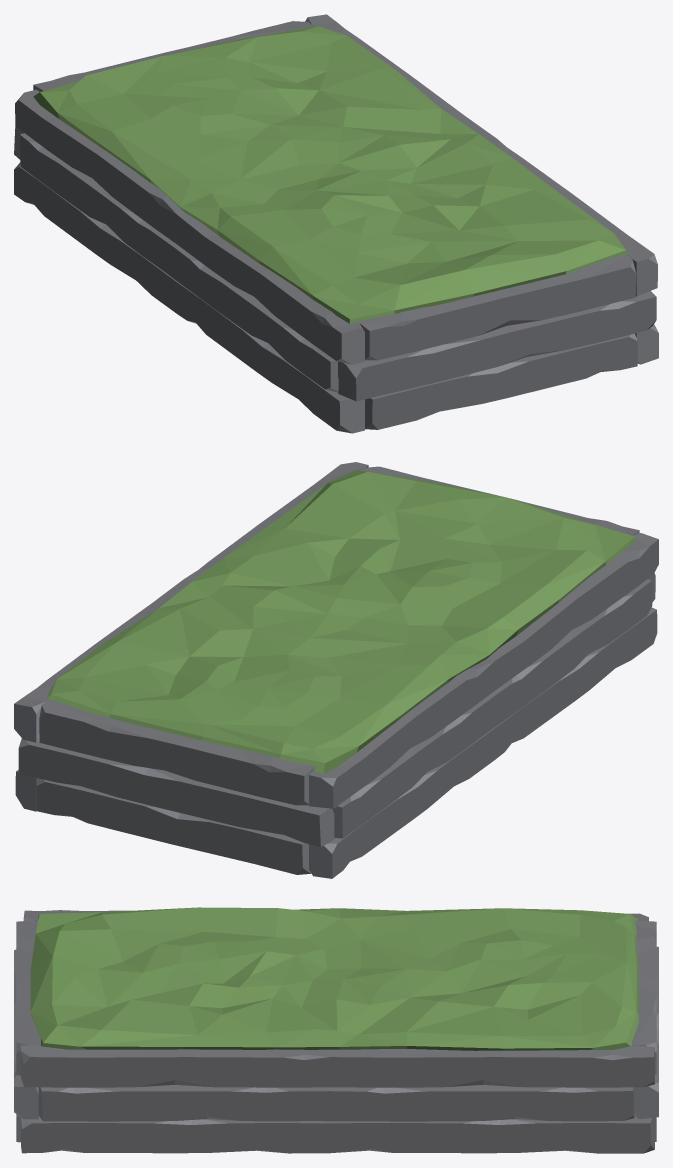
File: gardenbox_7.fbx
The picture shows the model from 3 angles, top to bottom: view 1: azimuth 30°, elevation 25°; view 2: azimuth 150°, elevation 25°; view 3: azimuth 270°, elevation 25°; orthographic projection. The views are drawn at different scales.
Parts seen in each view (by area): view 1: Gardenbox_07; view 2: Gardenbox_07; view 3: Gardenbox_07.
Part boxes in pixels (x1,y1,x2,y2): Gardenbox_07: (14,14,658,433); Gardenbox_07: (14,462,658,878); Gardenbox_07: (14,907,658,1153).
Size of the model in its own units: 0.4036 by 0.1461 by 0.7399.
Materials: 1 (1 with a texture image).
